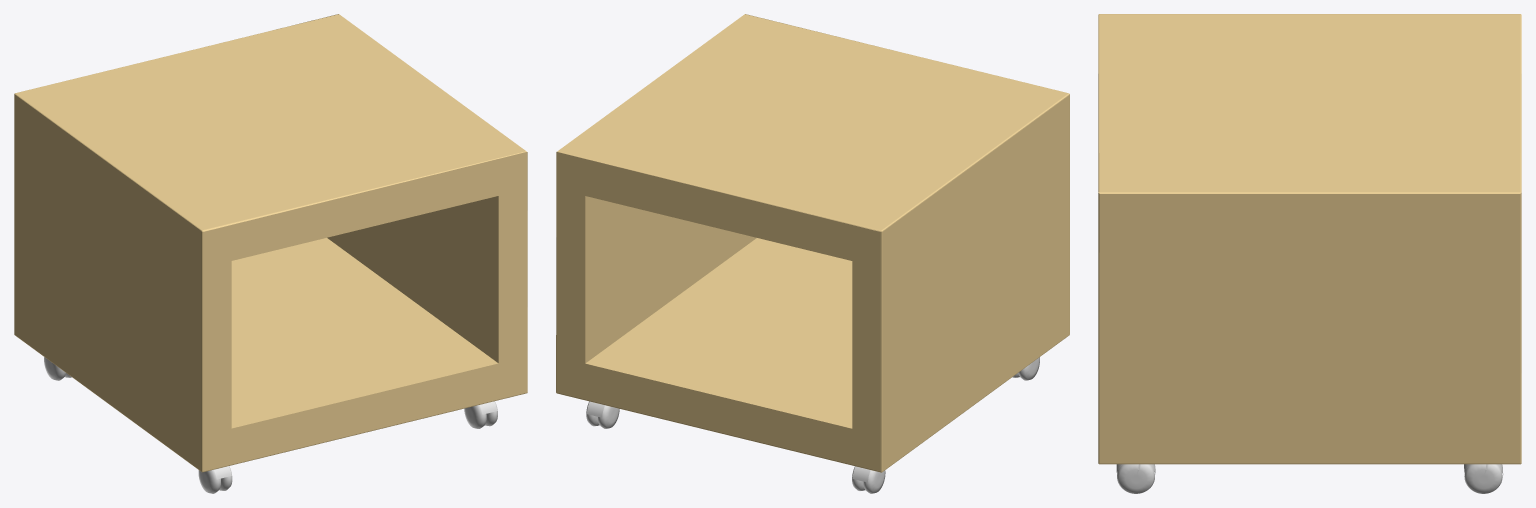
Rendered from IKEA-LACK_side_table_wood-3D.obj.
The picture shows the model from 3 angles, left to right: view 1: azimuth 30°, elevation 25°; view 2: azimuth 150°, elevation 25°; view 3: azimuth 270°, elevation 25°; orthographic projection. The views are drawn at different scales.
Visible parts, largest first — view 1: Rectangle001, Plane01, Plane002; view 2: Rectangle001, Plane004, Plane003; view 3: Rectangle001, Plane002, Plane003.
Part boxes in pixels (x1,y1,x2,y2): Rectangle001: (14, 14, 527, 472); Plane01: (198, 466, 232, 493); Plane002: (464, 401, 497, 428); Rectangle001: (556, 14, 1069, 472); Plane004: (852, 466, 885, 493); Plane003: (586, 401, 619, 428); Rectangle001: (1098, 14, 1521, 464); Plane002: (1116, 464, 1155, 493); Plane003: (1464, 464, 1503, 493).
Size of the model in its own units: 550 by 451 by 550.
